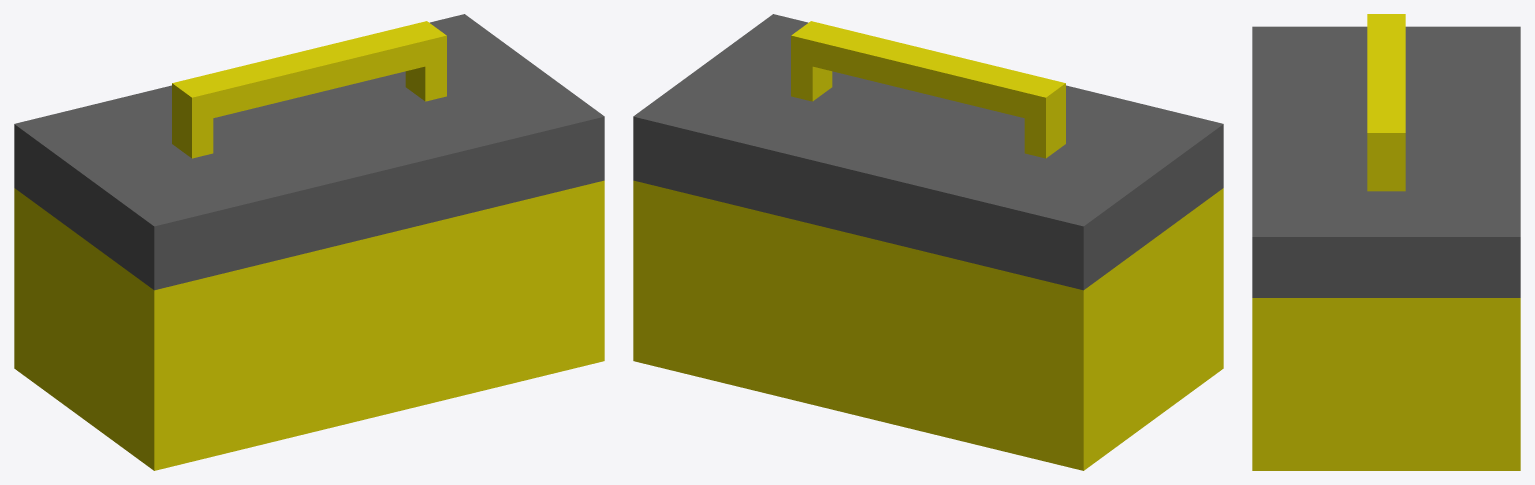
File: repairBox.fbx
3 renders of one model, left to right at view 1: azimuth 30°, elevation 25°; view 2: azimuth 150°, elevation 25°; view 3: azimuth 270°, elevation 25°, orthographic. The views are drawn at different scales.
Parts seen in each view (by area): view 1: Cube; view 2: Cube; view 3: Cube.
Boxes of the visible parts, box(x1,y1,x2,y2) form: Cube: box(14, 14, 604, 470); Cube: box(633, 14, 1223, 470); Cube: box(1252, 14, 1520, 470).
Size of the model in its own units: 211 by 137 by 114.
